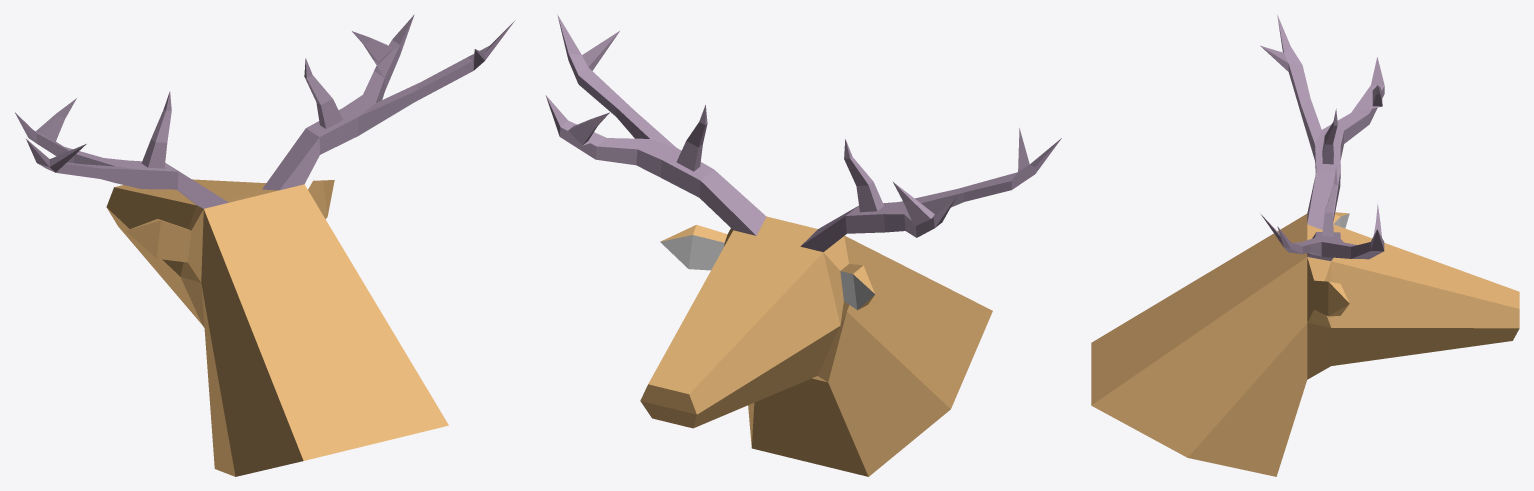
File: Deer Trophy.fbx
3 renders of one model, left to right at view 1: azimuth 30°, elevation 25°; view 2: azimuth 150°, elevation 25°; view 3: azimuth 270°, elevation 25°, orthographic. The views are drawn at different scales.
Visible parts, largest first — view 1: Deer; view 2: Deer; view 3: Deer.
Boxes of the visible parts, x1,y1,x2,y2 form: Deer: [15, 14, 515, 476]; Deer: [545, 14, 1061, 476]; Deer: [1091, 15, 1519, 476].
Size of the model in its own units: 350 by 300 by 257.
